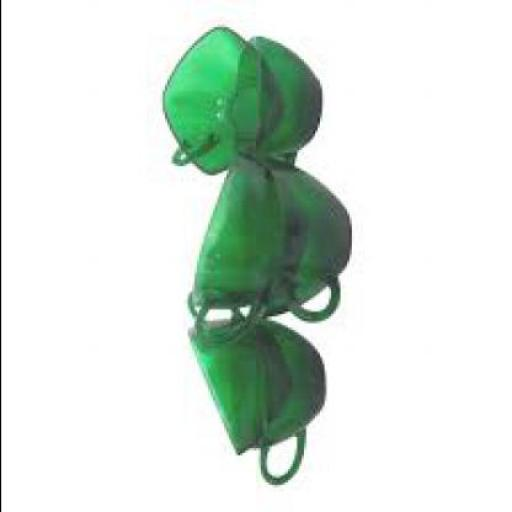glass: (160, 25, 278, 173), (248, 157, 350, 321), (185, 148, 268, 343), (232, 316, 326, 482), (178, 289, 259, 453), (234, 34, 320, 164)
